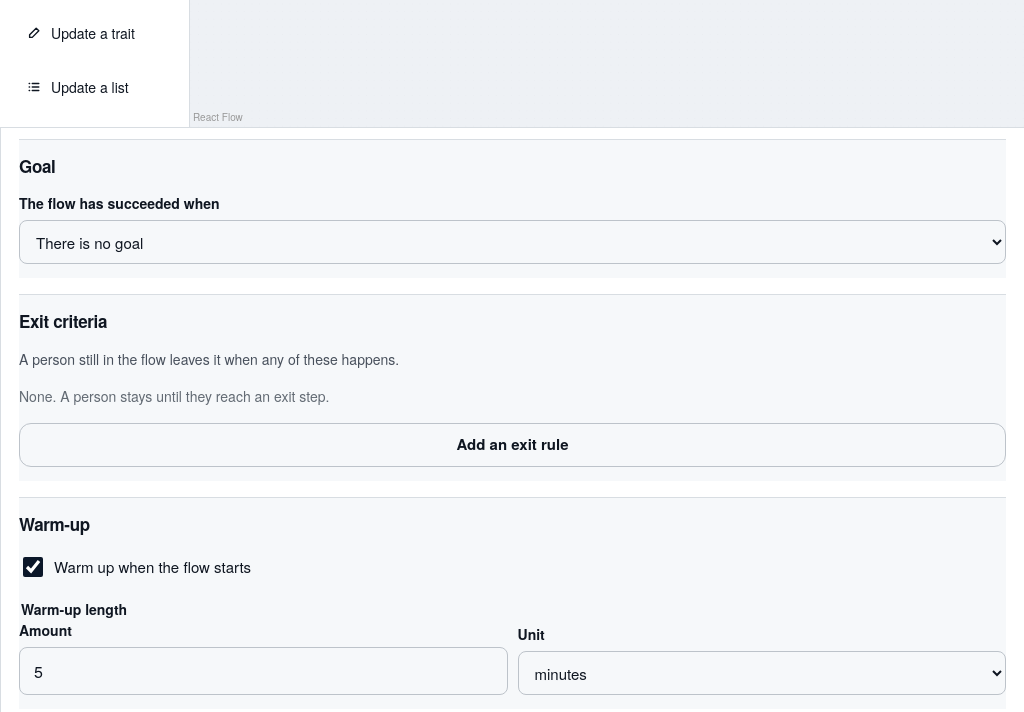
Test: the warm-up setting › saves a new length on its own, without a publish
This screenshot has width=1024, height=712.
(page scrolled)
Replace the text in the number field labelled "Amount" with "2" at (263, 671), box x1=19 y1=647 x2=508 y2=695
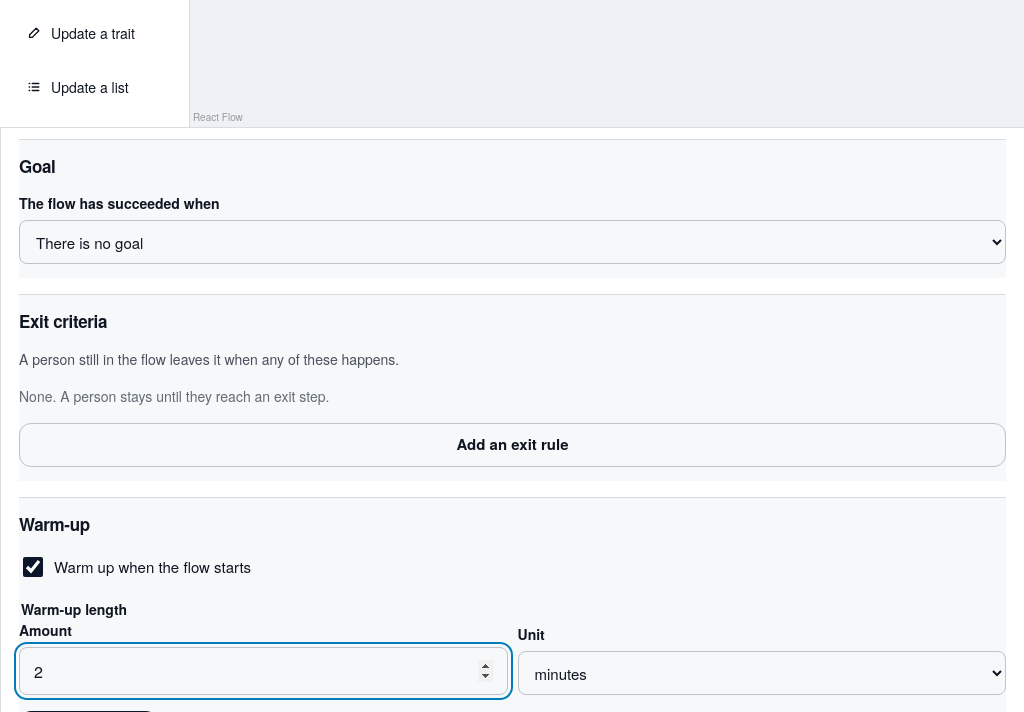
Select "hours" in the dropdown labelled "Unit" at (762, 673), box x1=518 y1=651 x2=1006 y2=695
(page scrolled)
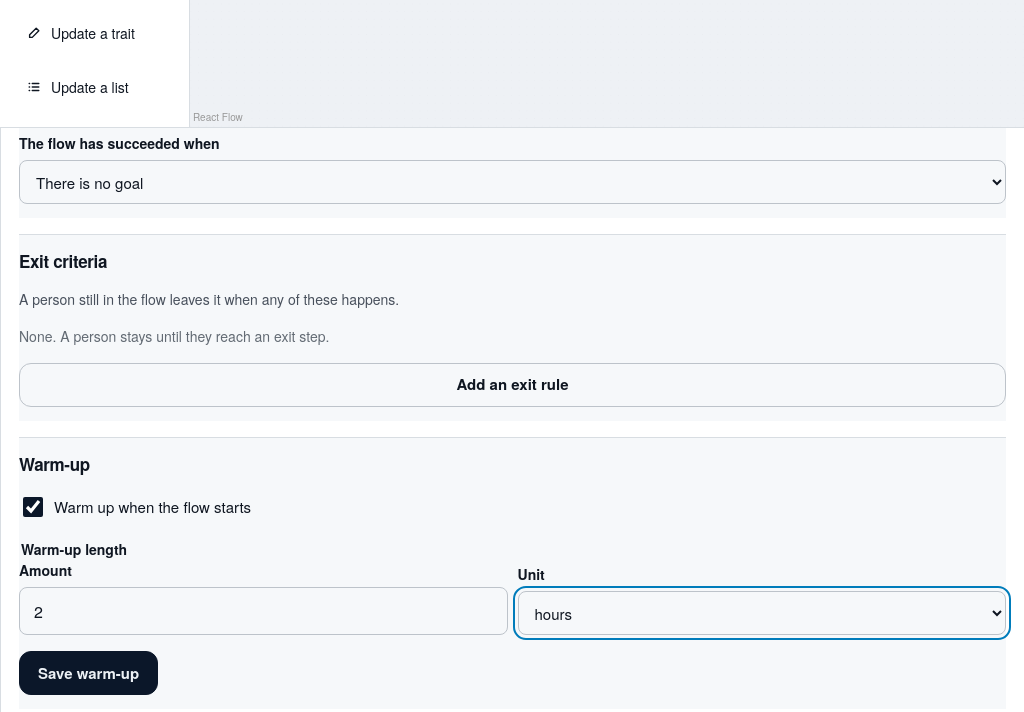
Click the button "Save warm-up".
click(89, 673)  # box x1=19 y1=651 x2=158 y2=695
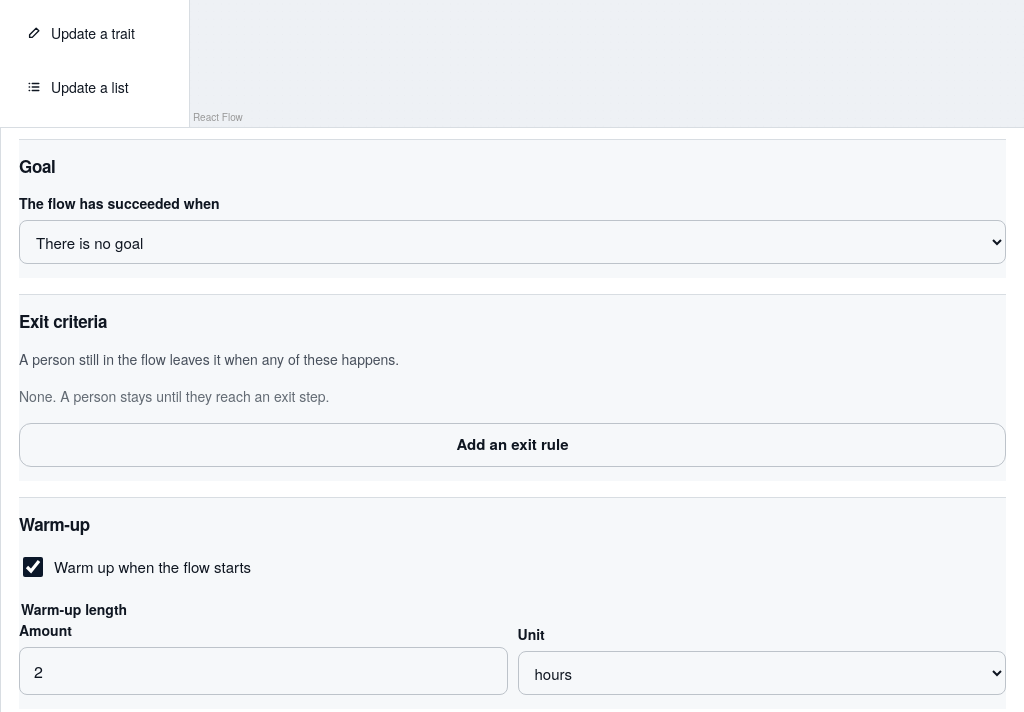
Now the button "Save warm-up" is gone
